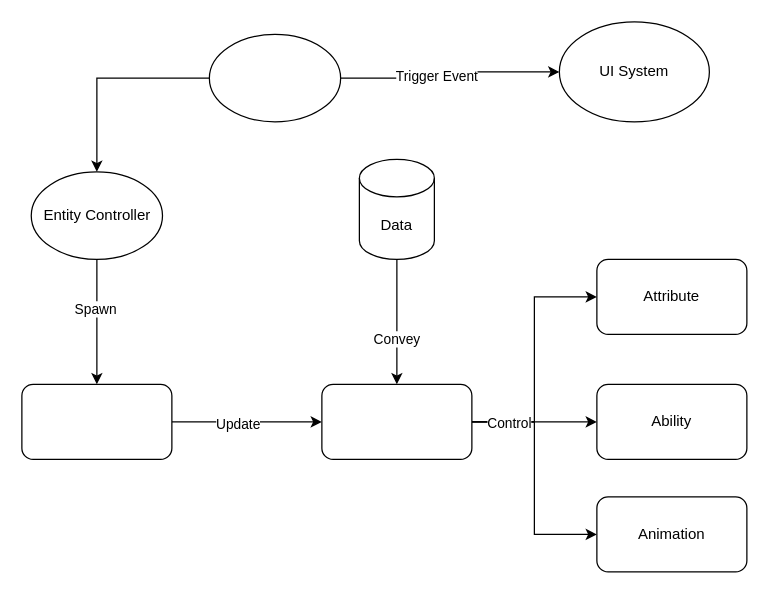
Some shapes in this 769 by 594 pixel diagram are drawn without their labels. Here are the shapes that lost their labels. From the top down, the box of each, then its label:
(208, 33, 341, 122): Event Controller
(21, 383, 172, 459): Entity
(321, 383, 472, 459): AI
